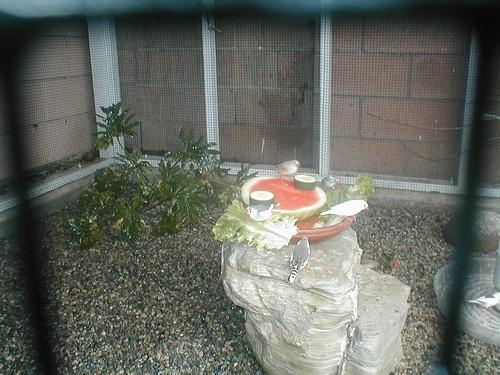bird: (289, 237, 312, 282), (319, 200, 370, 220), (277, 160, 301, 186), (471, 291, 500, 312), (320, 176, 343, 192)
